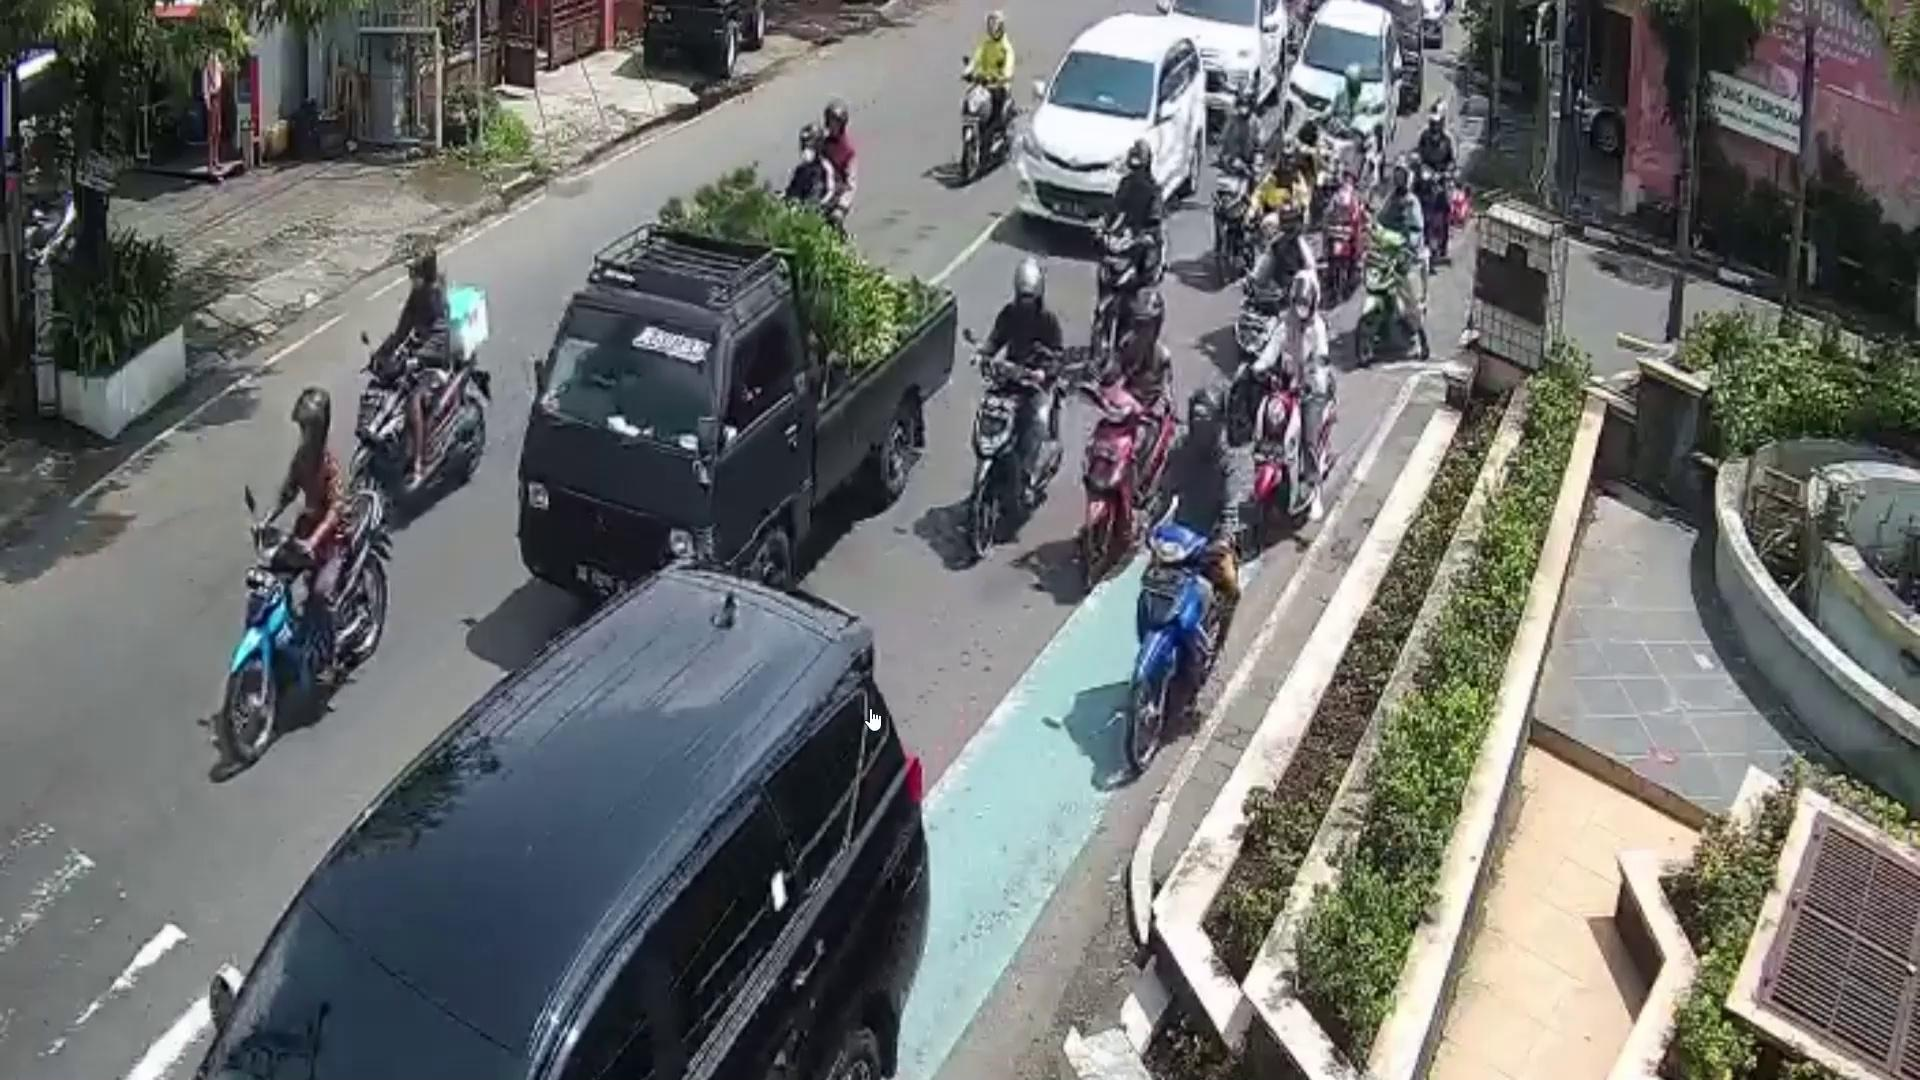car: (196, 563, 930, 1080), (520, 214, 959, 601), (1021, 13, 1205, 236), (1292, 0, 1402, 160), (1184, 0, 1295, 99)
motorbike: (222, 487, 381, 766), (1080, 365, 1176, 583), (360, 348, 489, 506), (1130, 520, 1204, 766), (1247, 360, 1332, 529), (1357, 227, 1416, 361), (960, 82, 1017, 182)
